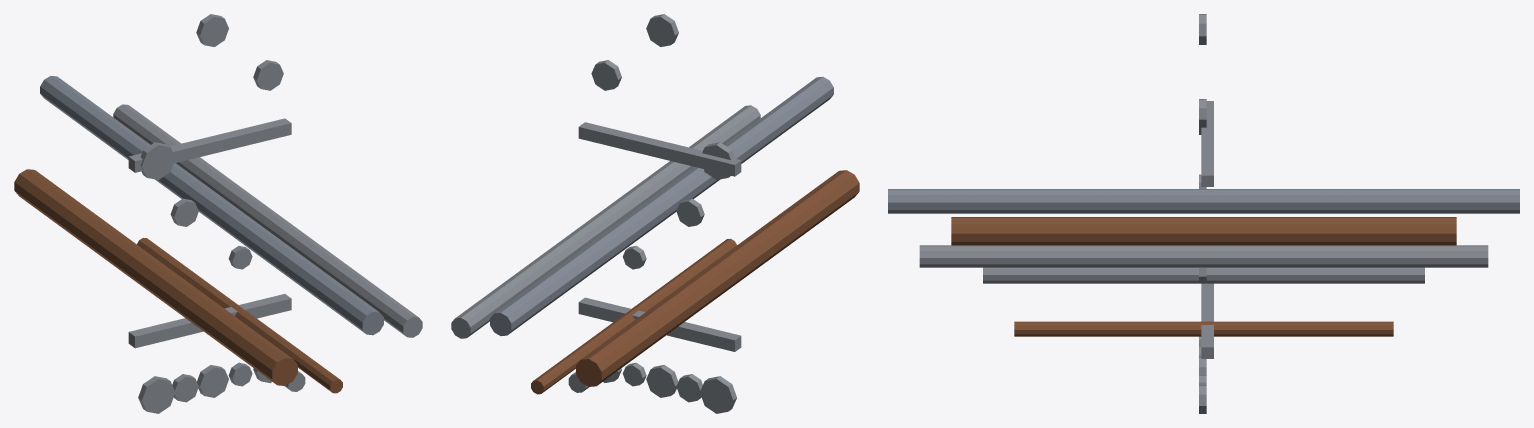
The model's file is INFRA_Pipe_Wall_Cluster.glb.
The picture shows the model from 3 angles, left to right: view 1: azimuth 30°, elevation 25°; view 2: azimuth 150°, elevation 25°; view 3: azimuth 270°, elevation 25°; orthographic projection. The views are drawn at different scales.
Parts seen in each view (by area): view 1: INFRA_Pipe_Wall_Cluster; view 2: INFRA_Pipe_Wall_Cluster; view 3: INFRA_Pipe_Wall_Cluster.
Boxes of the visible parts, bbox=[...] form: INFRA_Pipe_Wall_Cluster: bbox=[14, 14, 422, 413]; INFRA_Pipe_Wall_Cluster: bbox=[451, 14, 859, 413]; INFRA_Pipe_Wall_Cluster: bbox=[888, 14, 1519, 413].
Size of the model in its own units: 1.4 by 3.28 by 5.
